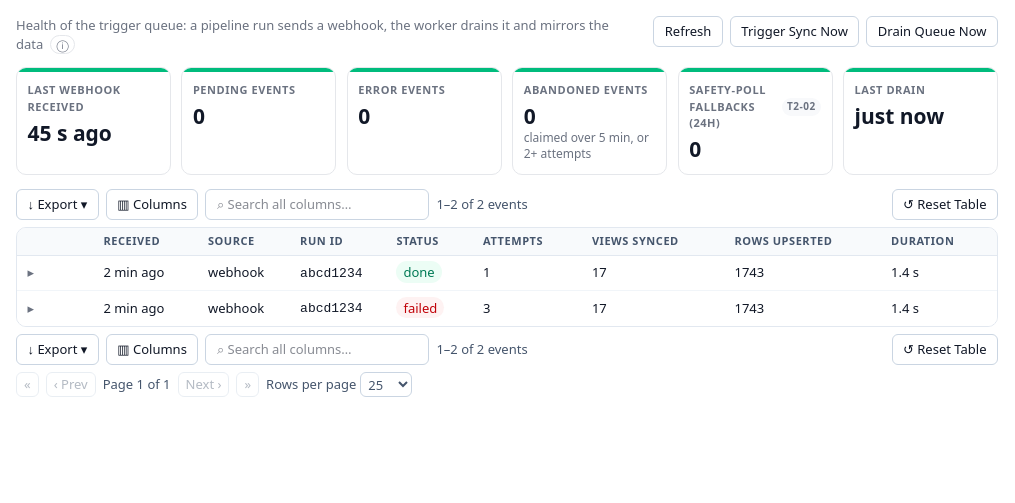
Test case: F21-FR-04: the event list shows attempts and views synced, and a row expands to its pass, ages and error
The width and height of the screenshot is (1015, 503).
Expected: the row with test id "sync-event" shows "webhook", [208, 263, 264, 281]
Expected: the row with test id "sync-event" shows "17", [592, 263, 607, 281]
Click the button with test id "event-expand" in the row of "failed" at {"x": 31, "y": 308}, box [24, 299, 38, 318]
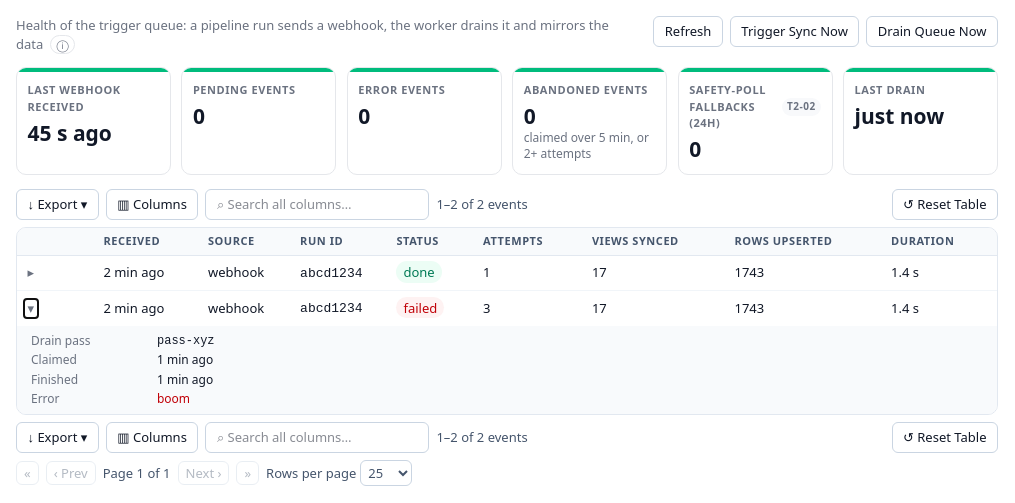
Now the element with test id "event-detail" shows "pass-xyz", box [157, 334, 214, 348]
Now the element with test id "event-detail" shows "boom", box [157, 390, 190, 407]
Now the element with test id "event-detail" shows "ago", box [157, 351, 213, 368]
